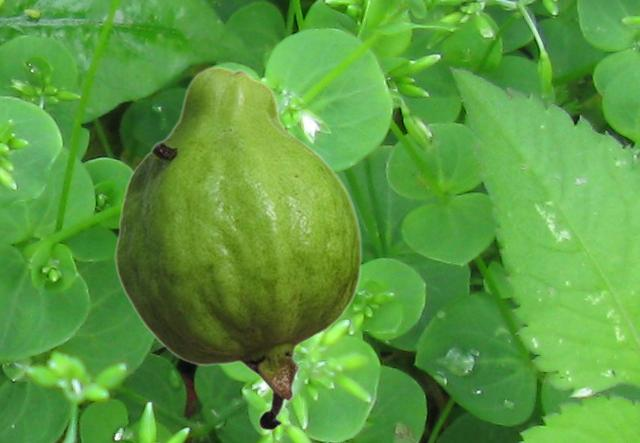guava: (113, 65, 361, 430)
